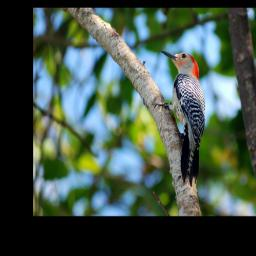Woodpecker: (152, 51, 206, 187)
